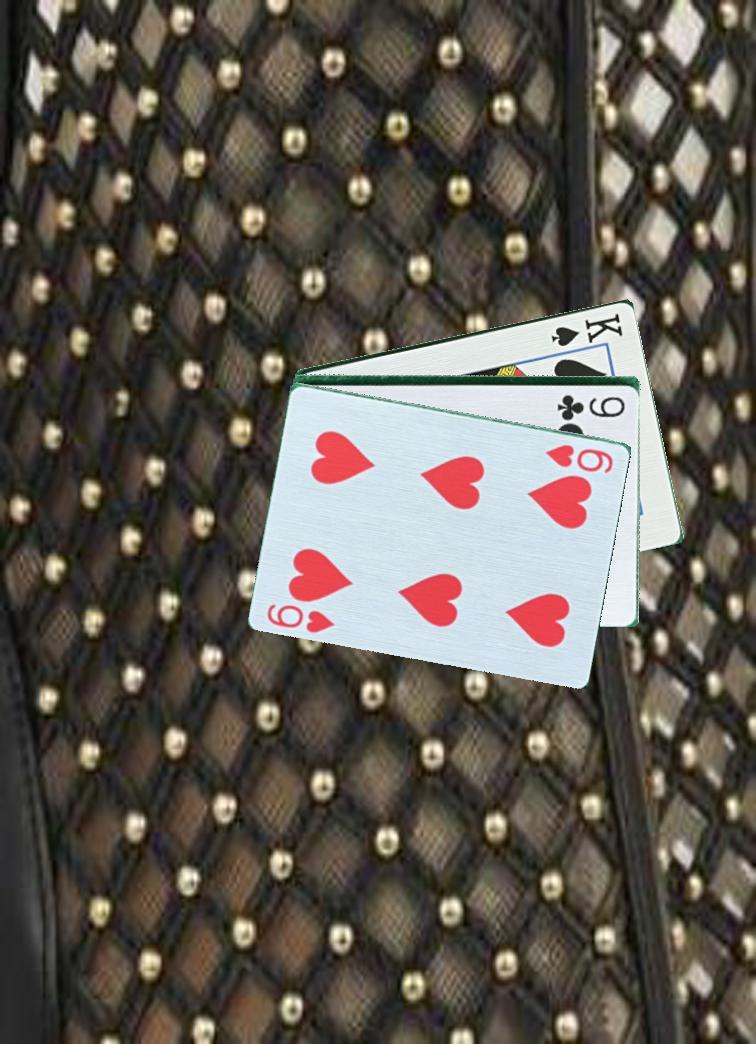6h: (542, 440, 617, 476), (264, 600, 339, 636)
9c: (554, 390, 629, 413)
ks: (548, 309, 626, 349)
